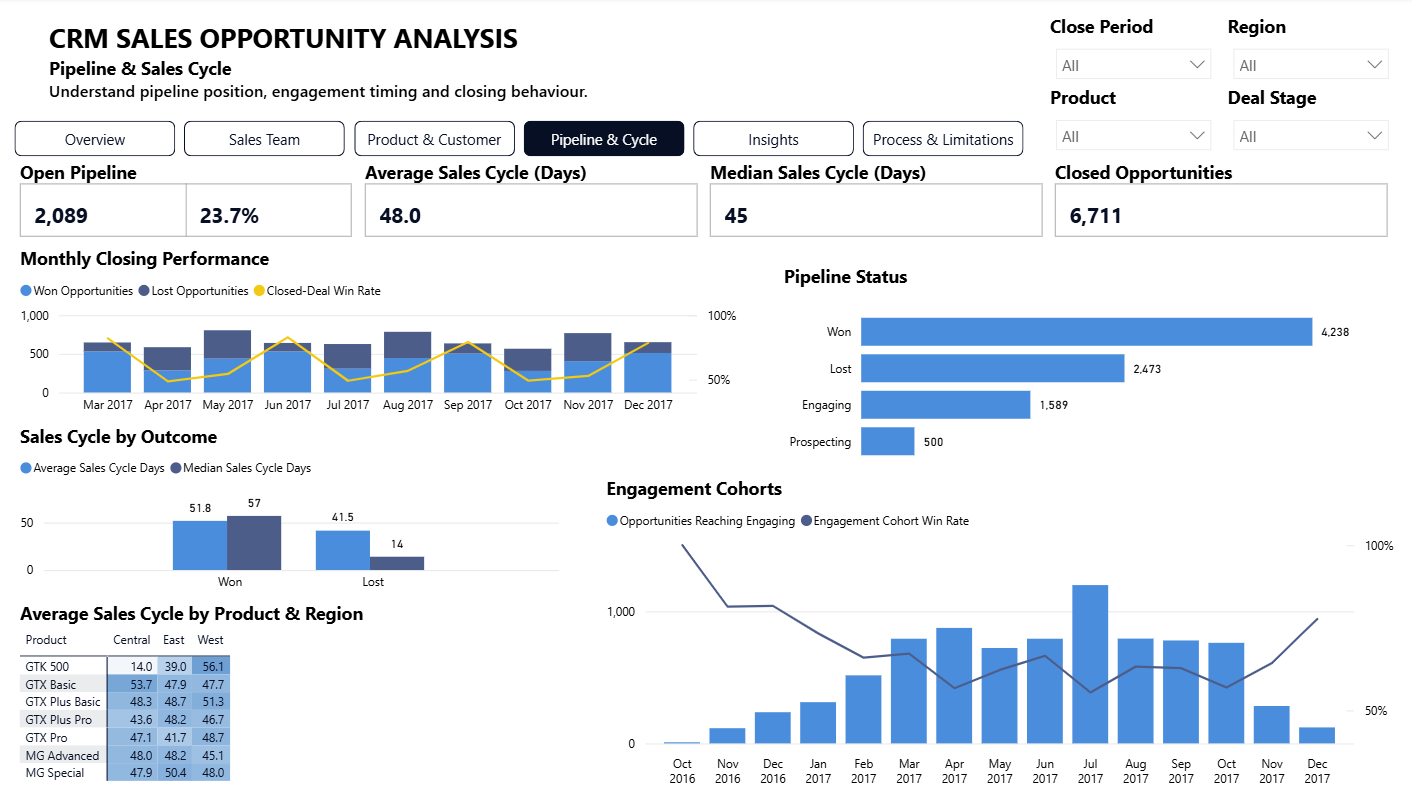

This screenshot's page, from the dashboard's own definition file:
{"tool":"powerbi","page":{"name":"Pipeline & Cycle","canvas":[1280,720],"ordinal":7},"visuals":[{"type":"textbox","box":[0,16,928,84],"z":0},{"type":"pageNavigator","box":[16,112,912,32],"z":1000},{"type":"slicer","title":"Close Period","fields":{"Values":["dim_date.Month Year"]},"box":[944,14.3,160,64],"z":2000,"group":"g2"},{"type":"group","id":"g1","title":"Group 1","box":[16,146.9,1248,80],"z":2000},{"type":"group","id":"g2","title":"Group 2","box":[944,14.3,320,128],"z":3000},{"type":"slicer","title":"Region","fields":{"Values":["dim_sales_teams.regional_office"]},"box":[1104,14.3,160,64],"z":3000,"group":"g2"},{"type":"slicer","title":"Product","fields":{"Values":["dim_products.product"]},"box":[944,78.3,160,64],"z":4000,"group":"g2"},{"type":"lineStackedColumnComboChart","title":"Monthly Closing Performance","fields":{"Category":["dim_date.Month Year"],"Y":["_Measures.Won Opportunities","_Measures.Lost Opportunities"],"Y2":["_Measures.Closed-Deal Win Rate"]},"box":[16,224,656,160],"z":4000},{"type":"slicer","title":"Deal Stage","fields":{"Values":["fact_sales_pipeline.deal_stage"]},"box":[1104,78.3,160,64],"z":5000,"group":"g2"},{"type":"clusteredBarChart","title":"Pipeline Status","fields":{"Category":["fact_sales_pipeline.deal_stage"],"Y":["_Measures.Total Opportunities"]},"box":[704,240,560,192],"z":5000},{"type":"cardVisual","title":"Open Pipeline","fields":{"Data":["_Measures.Open Opportunities","_Measures.Open Pipeline Share"]},"box":[16,146.9,311,75],"z":6000,"group":"g1"},{"type":"clusteredColumnChart","title":"Sales Cycle by Outcome","fields":{"Category":["fact_sales_pipeline.deal_stage"],"Y":["_Measures.Average Sales Cycle Days","_Measures.Median Sales Cycle Days"]},"box":[16,384,496,160],"z":6000},{"type":"cardVisual","title":"Average Sales Cycle (Days)","fields":{"Data":["_Measures.Average Sales Cycle Days"]},"box":[327,146.9,311,75],"z":7000,"group":"g1"},{"type":"lineClusteredColumnComboChart","title":"Engagement Cohorts","fields":{"Category":["dim_date.Month Year"],"Y":["_Measures.Opportunities Reaching Engaging"],"Y2":["_Measures.Engagement Cohort Win Rate"]},"box":[544,432,720,288],"z":7000},{"type":"cardVisual","title":"Median Sales Cycle (Days)","fields":{"Data":["_Measures.Median Sales Cycle Days"]},"box":[638,146.9,311,75],"z":8000,"group":"g1"},{"type":"pivotTable","title":"Average Sales Cycle by Product & Region","fields":{"Columns":["dim_sales_teams.regional_office"],"Rows":["dim_products.product"],"Values":["_Measures.Average Sales Cycle Days"]},"box":[16,544,336,176],"z":8000},{"type":"cardVisual","title":"Closed Opportunities","fields":{"Data":["_Measures.Closed Opportunities"]},"box":[949,146.9,311,75],"z":9000,"group":"g1"}]}

Visuals, with their boxes in screenshot pixels (x1, y1, x2, y2), scaled from the page's 1280x720 canvas onto the 1412x790 screenshot:
textbox: BBox(0, 18, 1024, 110)
pageNavigator: BBox(18, 123, 1024, 158)
"Close Period" slicer: BBox(1041, 16, 1218, 86)
"Group 1" group: BBox(18, 161, 1394, 249)
"Group 2" group: BBox(1041, 16, 1394, 156)
"Region" slicer: BBox(1218, 16, 1394, 86)
"Product" slicer: BBox(1041, 86, 1218, 156)
"Monthly Closing Performance" lineStackedColumnComboChart: BBox(18, 246, 741, 421)
"Deal Stage" slicer: BBox(1218, 86, 1394, 156)
"Pipeline Status" clusteredBarChart: BBox(777, 263, 1394, 474)
"Open Pipeline" cardVisual: BBox(18, 161, 361, 243)
"Sales Cycle by Outcome" clusteredColumnChart: BBox(18, 421, 565, 597)
"Average Sales Cycle (Days)" cardVisual: BBox(361, 161, 704, 243)
"Engagement Cohorts" lineClusteredColumnComboChart: BBox(600, 474, 1394, 789)
"Median Sales Cycle (Days)" cardVisual: BBox(704, 161, 1047, 243)
"Average Sales Cycle by Product & Region" pivotTable: BBox(18, 597, 388, 789)
"Closed Opportunities" cardVisual: BBox(1047, 161, 1390, 243)
